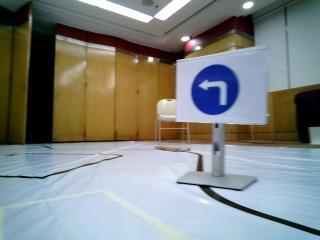left: (179, 63, 263, 125)
